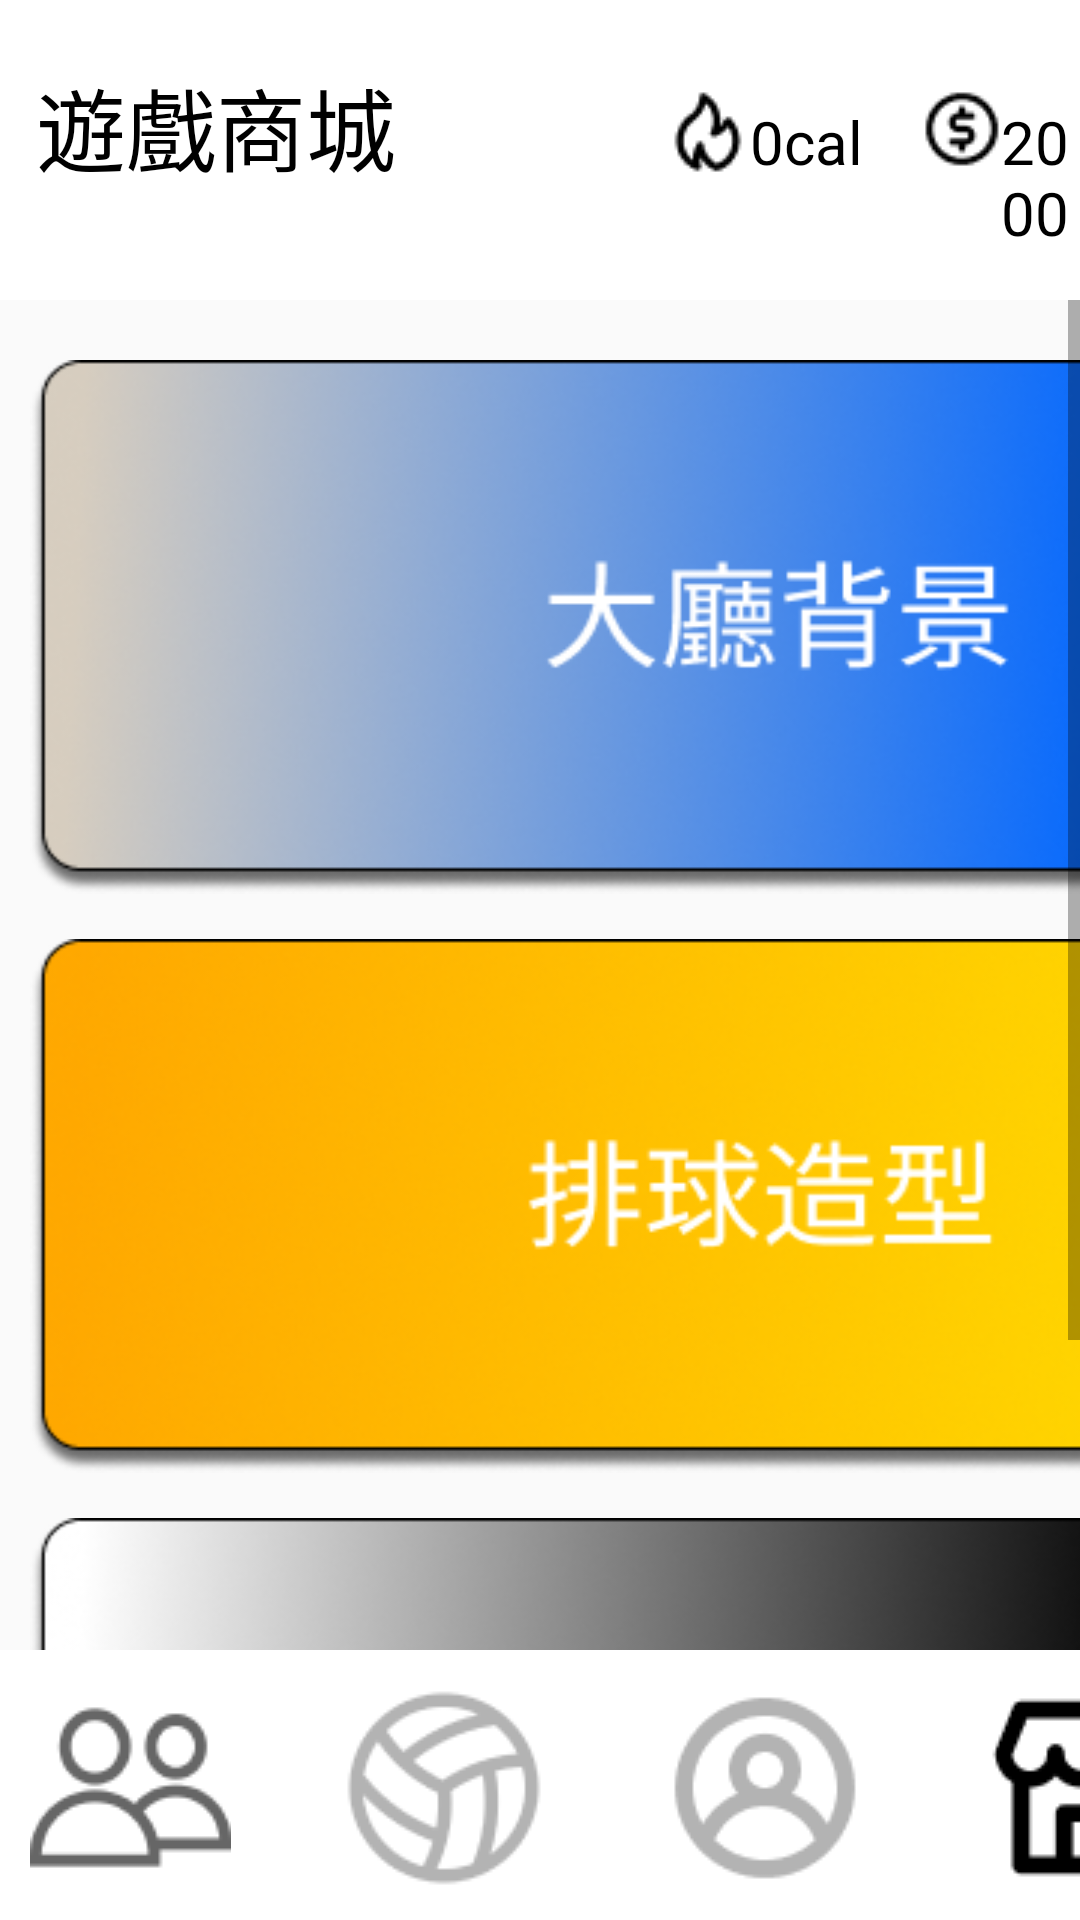

Named icons in this screenshot (1080 x 1920) and their bounding boxes, (x1, y1, x2, y2):
friends: (30, 1707, 231, 1868)
profile: (675, 1697, 855, 1878)
volleyball: (348, 1692, 540, 1884)
